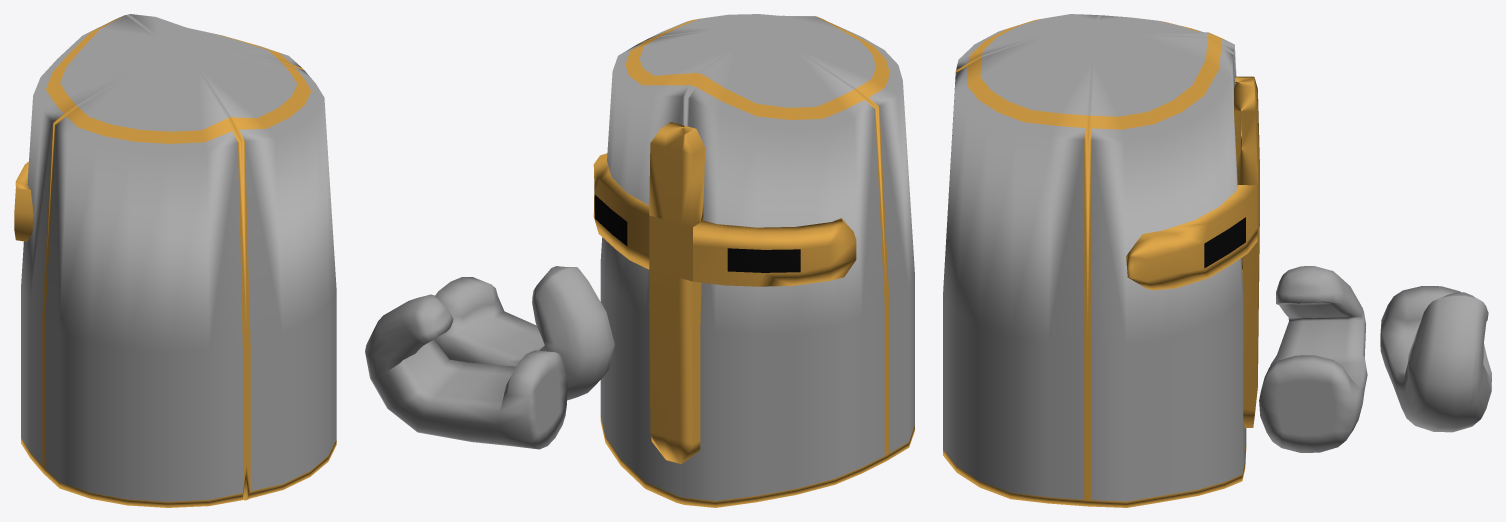
File: CaballeroDisparo.fbx
3 renders of one model, left to right at view 1: azimuth 30°, elevation 25°; view 2: azimuth 150°, elevation 25°; view 3: azimuth 270°, elevation 25°, orthographic. The views are drawn at different scales.
Parts seen in each view (by area): view 1: pCube20; view 2: pCube20; view 3: pCube20.
Part boxes in pixels (left/top/right/bottom): pCube20: left=14, top=14, right=336, bottom=507; pCube20: left=365, top=14, right=914, bottom=507; pCube20: left=943, top=14, right=1491, bottom=507.
Bounding box in the file's own units: 920 × 1047 × 1204.
